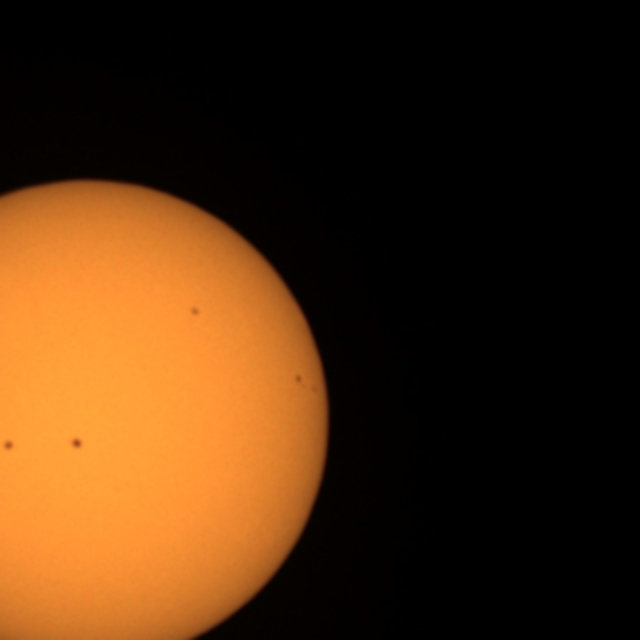sunspot: (293, 373, 320, 395), (67, 434, 86, 453), (0, 437, 16, 454), (188, 304, 202, 320)
